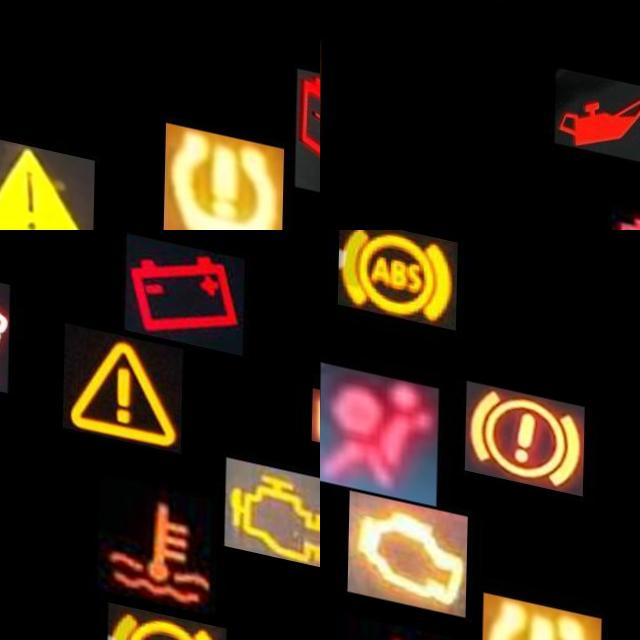Central Warning lamp: (64, 312, 184, 436), (0, 127, 95, 230)
Engine cooling system: (99, 462, 219, 598), (335, 596, 455, 640), (394, 201, 514, 230)
